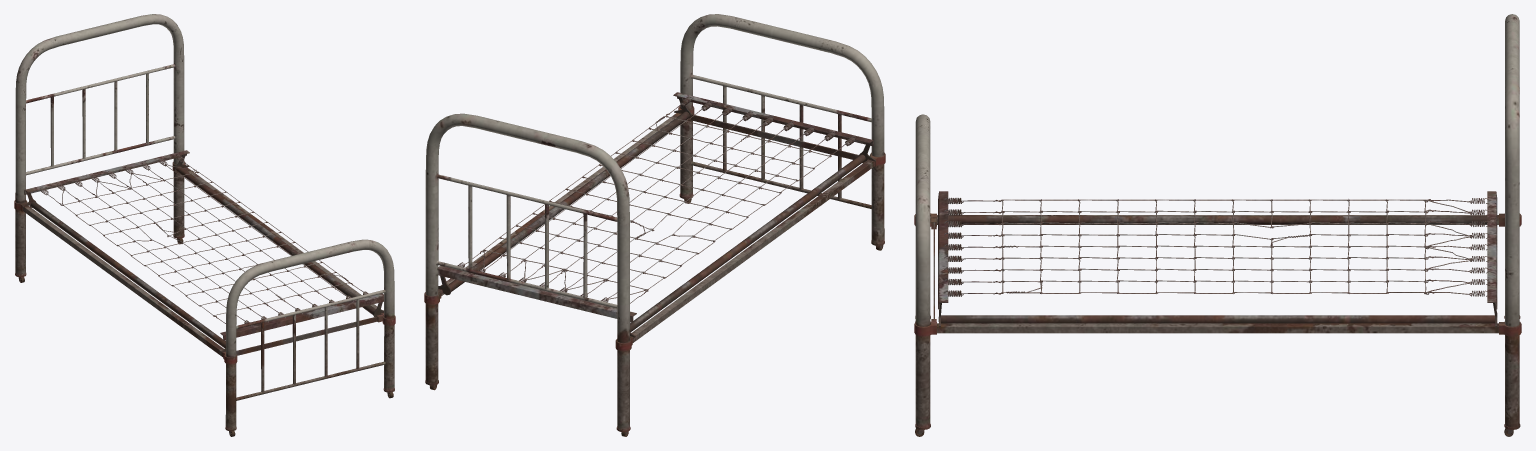
3 renders of one model, left to right at view 1: azimuth 30°, elevation 25°; view 2: azimuth 150°, elevation 25°; view 3: azimuth 270°, elevation 25°, orthographic. The views are drawn at different scales.
Visible parts, largest first — view 1: old_bed_frame; view 2: old_bed_frame; view 3: old_bed_frame.
Boxes of the visible parts, x1,y1,x2,y2 form: old_bed_frame: [14, 14, 395, 436]; old_bed_frame: [424, 14, 885, 436]; old_bed_frame: [914, 14, 1521, 436].
Size of the model in its own units: 0.9047 by 1.2 by 2.
Materials: 1 (1 with a texture image).
